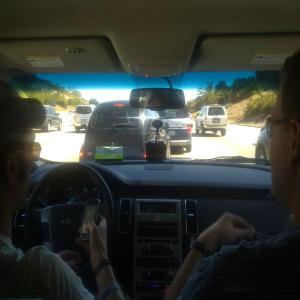Vehicle-registration-plate: (170, 131, 177, 137), (82, 119, 87, 124), (214, 120, 220, 124)
